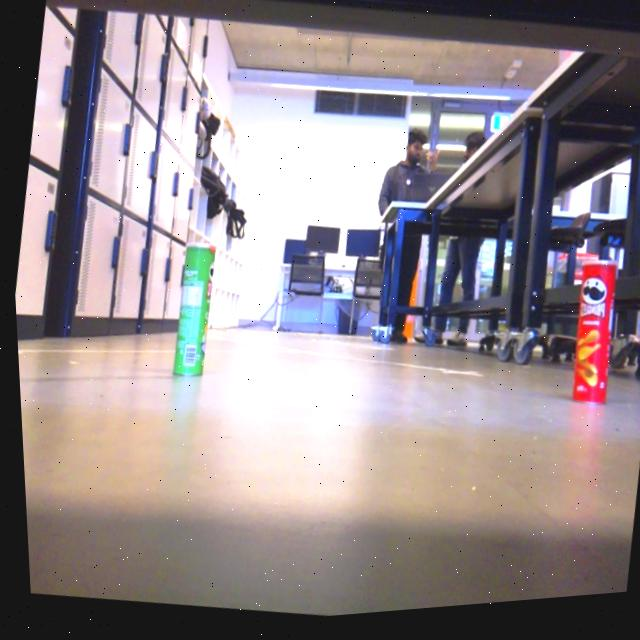greenpringles: (126, 230, 238, 427)
redpringles: (546, 248, 640, 426)
